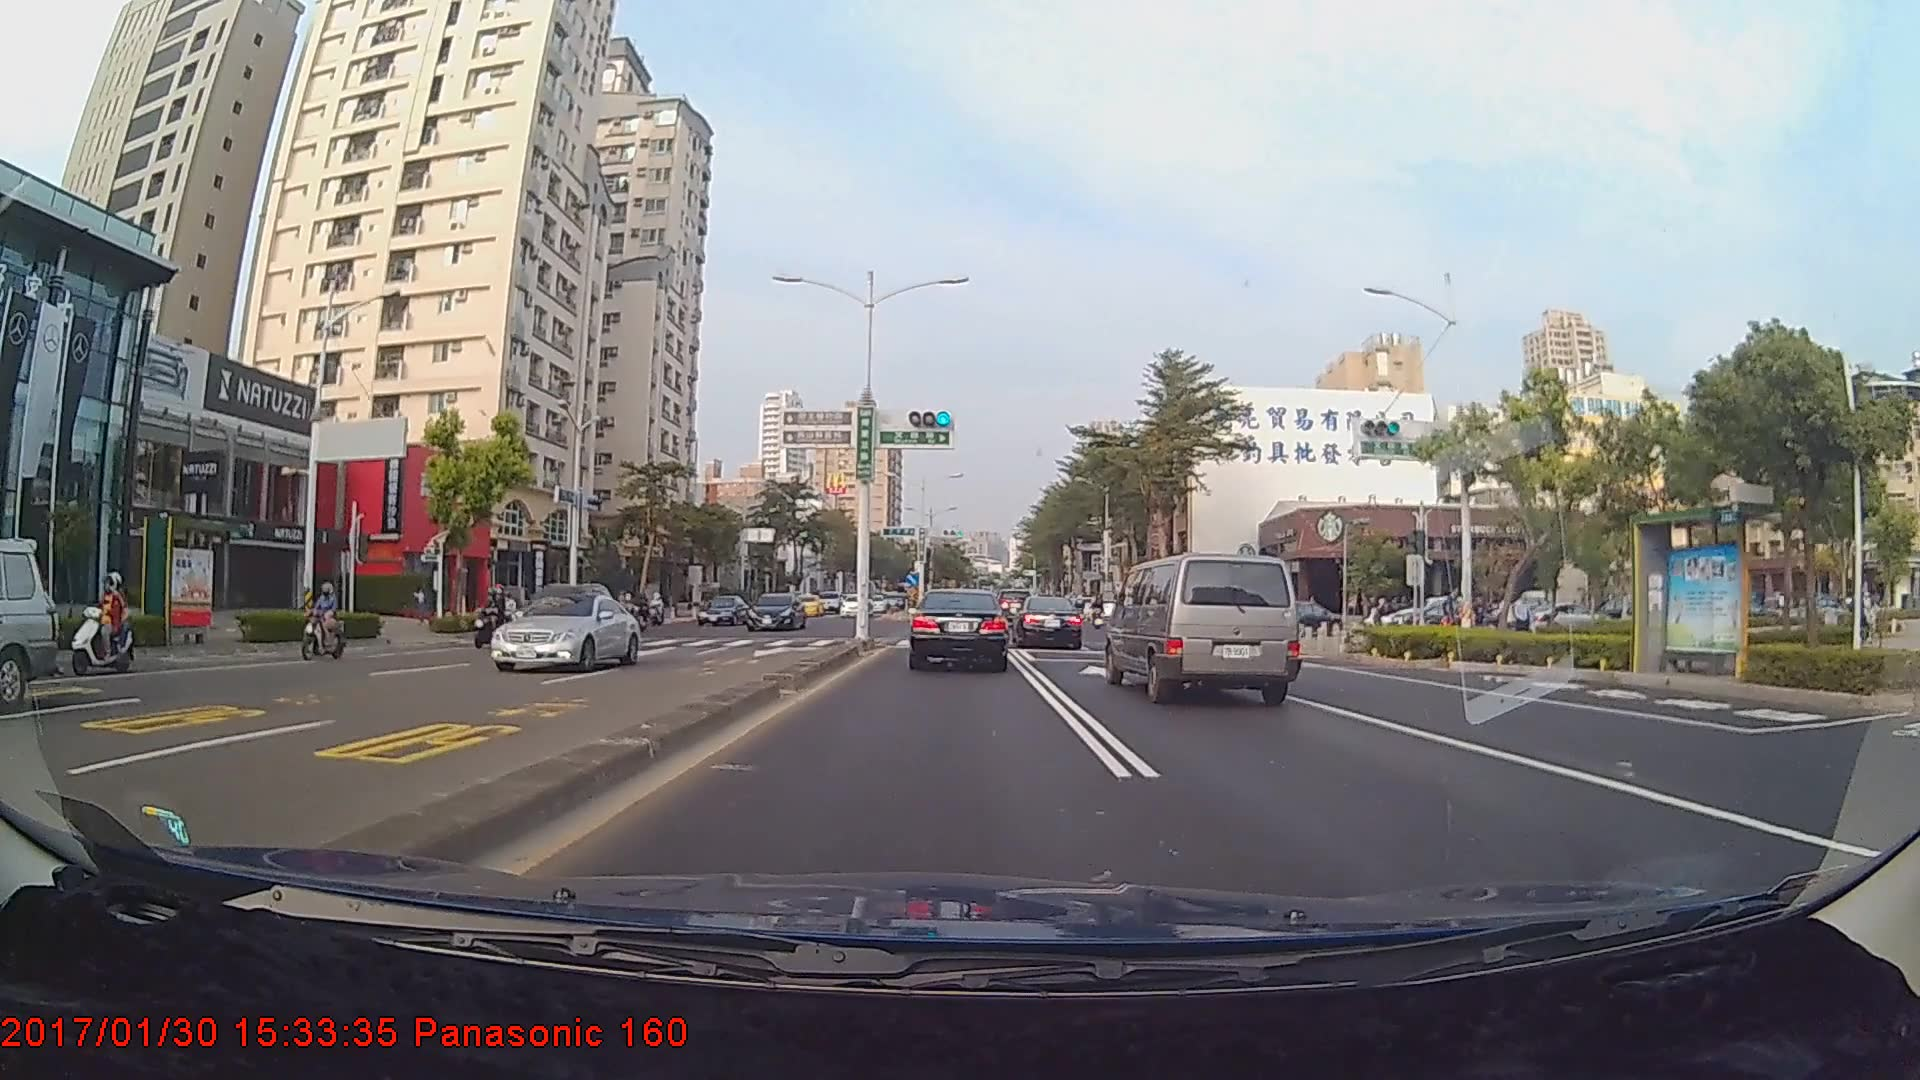pedestrian: (1512, 592, 1533, 651)
rider: (66, 570, 135, 675), (294, 574, 355, 661), (469, 582, 515, 650)
vehicle: (1106, 551, 1304, 704), (488, 588, 641, 672), (910, 585, 1008, 669), (518, 582, 615, 653), (1014, 595, 1084, 649), (744, 591, 807, 633), (697, 593, 749, 623), (838, 592, 874, 614)
